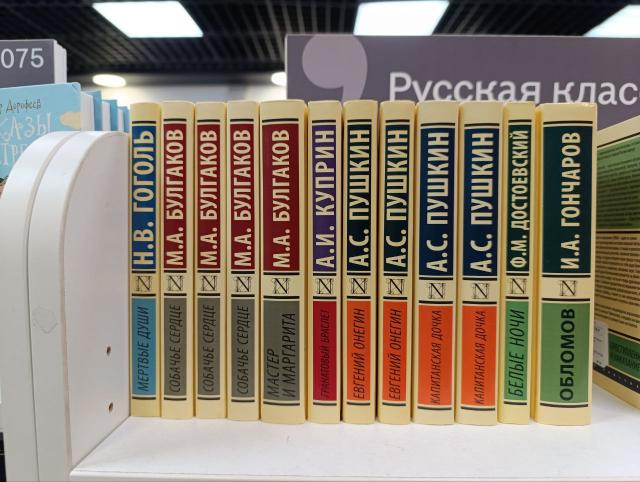book-s-spine: (537, 102, 598, 424), (457, 101, 503, 425), (260, 100, 306, 423), (414, 101, 459, 424), (378, 101, 416, 425), (499, 102, 535, 425), (343, 100, 378, 424), (308, 101, 341, 424), (162, 101, 194, 419), (227, 100, 258, 421), (195, 102, 225, 419), (130, 103, 160, 417)
